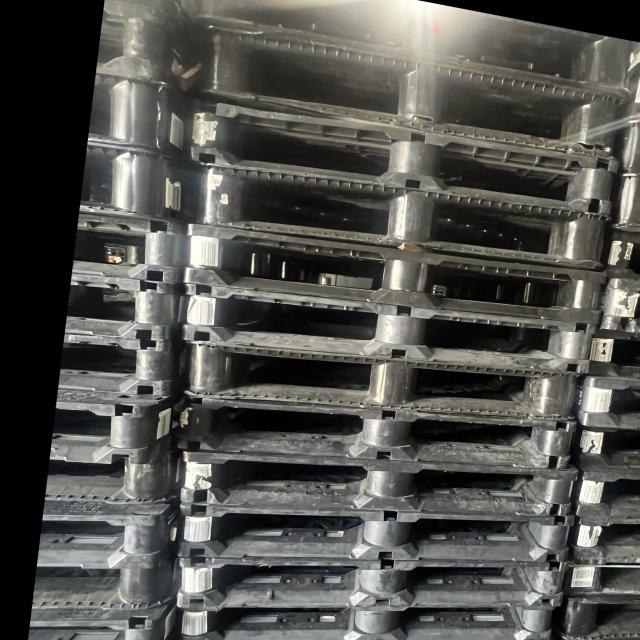igps: (179, 17, 631, 163), (173, 92, 626, 227), (174, 146, 618, 276), (172, 208, 613, 332), (178, 0, 640, 107), (172, 277, 603, 385), (176, 333, 588, 432), (172, 393, 581, 481), (166, 444, 588, 526), (171, 496, 584, 571), (164, 552, 575, 616), (173, 603, 562, 640), (42, 384, 208, 468), (76, 66, 212, 167), (71, 135, 208, 228), (32, 497, 195, 574), (55, 267, 198, 346), (52, 323, 198, 399), (93, 0, 210, 93), (64, 206, 194, 289), (22, 549, 188, 614), (36, 453, 188, 509), (22, 594, 189, 640), (544, 587, 640, 640), (567, 367, 640, 435), (555, 422, 640, 478), (566, 463, 640, 524), (555, 513, 640, 566), (555, 555, 640, 603), (579, 320, 640, 383), (590, 269, 640, 335), (595, 214, 640, 278)
